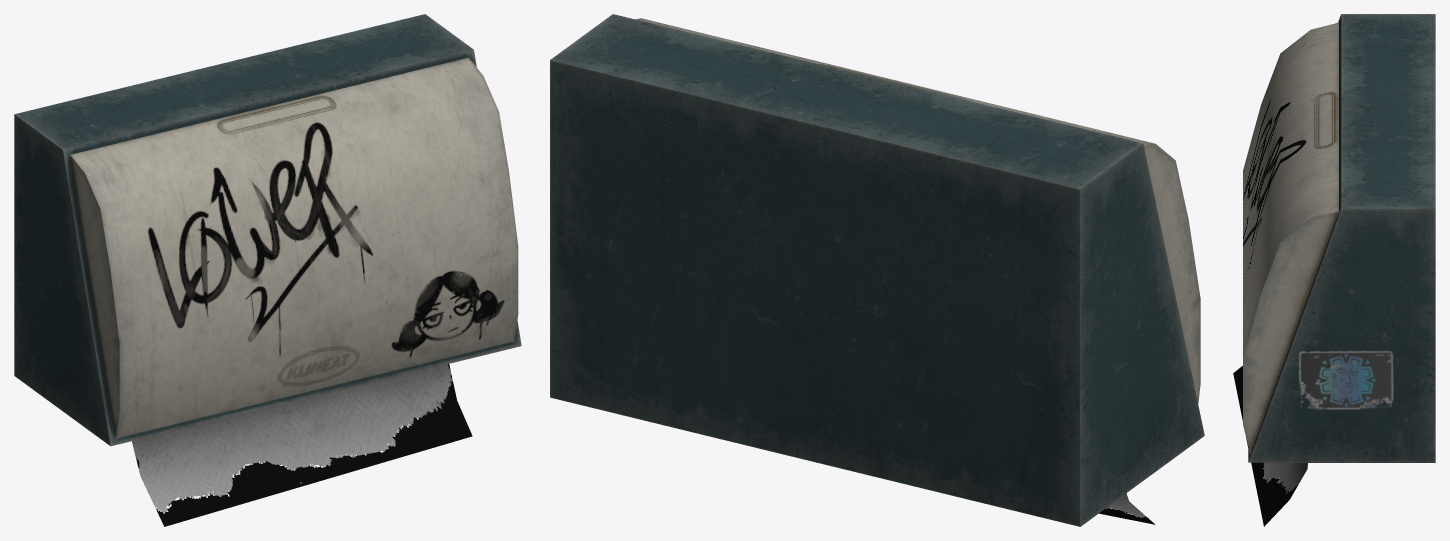
Rendered from LQ dispenser.fbx.
3 views of the same model, side by side, from view 1: azimuth 30°, elevation 25°; view 2: azimuth 150°, elevation 25°; view 3: azimuth 270°, elevation 25° (orthographic). The views are drawn at different scales.
Parts seen in each view (by area): view 1: Object_2; view 2: Object_2; view 3: Object_2.
Part boxes in pixels (x1,y1,x2,y2): Object_2: [14, 14, 521, 526]; Object_2: [550, 14, 1204, 526]; Object_2: [1233, 14, 1435, 526].
Bounding box in the file's own units: 493 × 399 × 217.
Materials: 1 (1 with a texture image).
